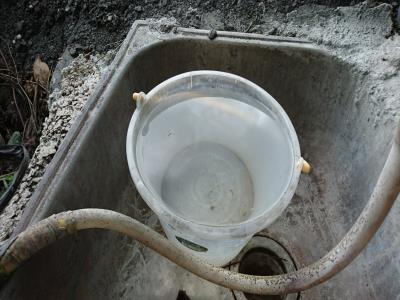bucket: (122, 68, 311, 271)
